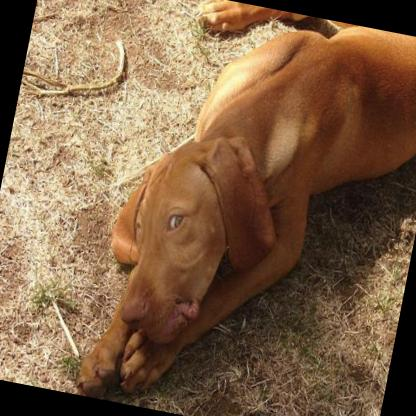vizsla: (70, 0, 416, 416)
